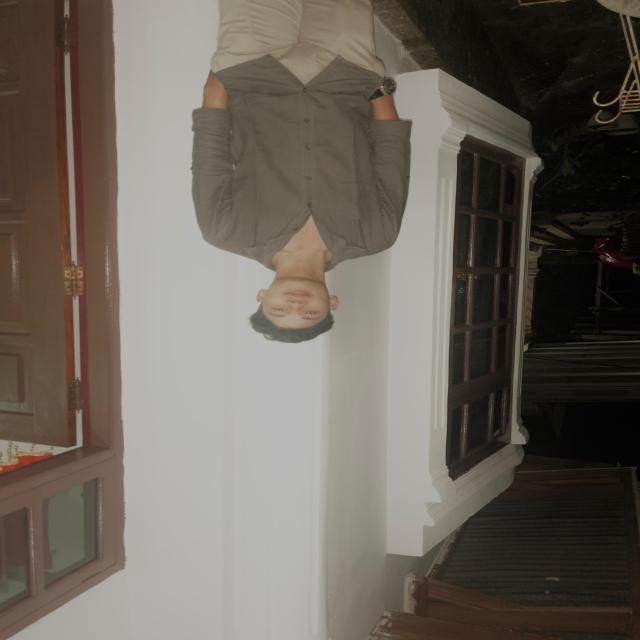nohelmet: (238, 268, 352, 351)
